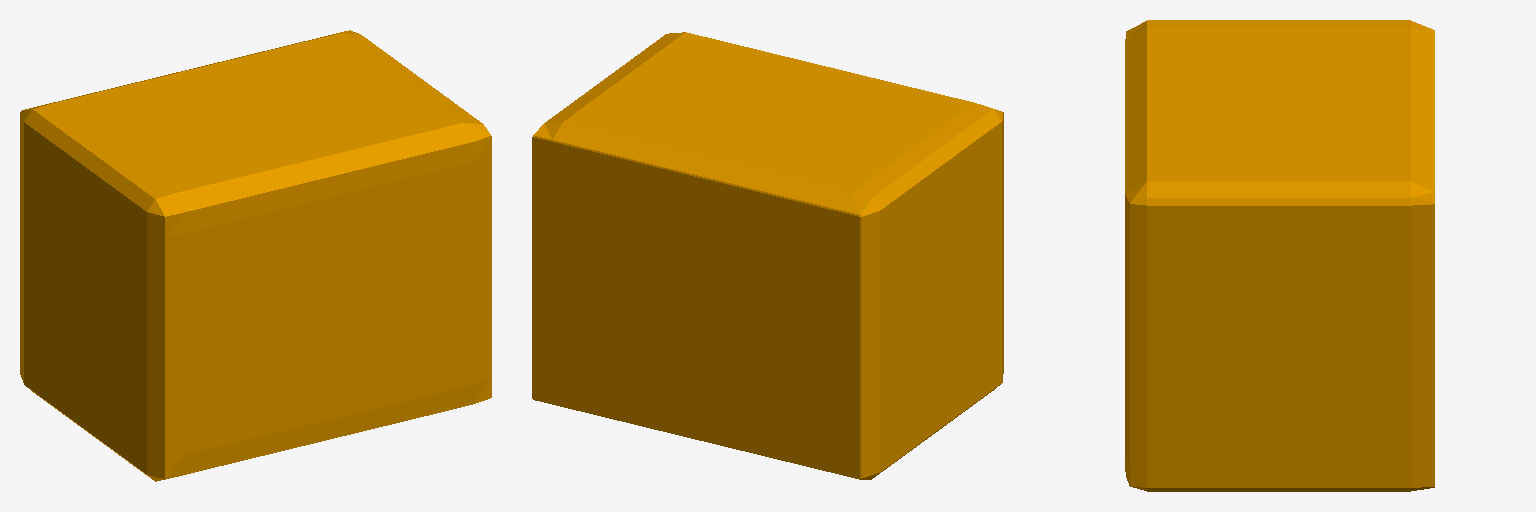
The robot description file, URDF, robot "cylinder_box_135":
<?xml version="1.0" encoding="utf-8"?>  <robot name="cylinder_box_135">   <link name="cylinder_box_135">     <visual>       <geometry>         <mesh filename="../meshes/box/box_135.stl" scale="1 1 1"/>       </geometry>     </visual>     <collision>       <geometry>         <mesh filename="../meshes/box/box_135.stl" scale="1 1 1"/>       </geometry>     </collision>     <inertial>        <origin         xyz="0 0 0"         rpy="0 0 0" />       <mass value="0.39725958332289163"/>       <origin rpy="0 0 0" xyz="0 0 0"/>       <inertia ixx="0.0002985158647589373" ixy="-2.0509460260026717e-07" ixz="-3.2511730687578333e-08" iyy="0.00041535576050849625" iyz="2.4746185484266525e-08" izz="0.00039124948490441684"/>     </inertial>   </link>  </robot>

--- Facts derived from the render (not from the file) ---
3 views of the same robot in one strip: view 1: azimuth 30°, elevation 25°; view 2: azimuth 150°, elevation 25°; view 3: azimuth 270°, elevation 25° (orthographic).
Model cylinder_box_135 with 1 links and 0 joints (none), rooted at cylinder_box_135, posed all joints at 0.
Links seen in each view (by area): view 1: cylinder_box_135; view 2: cylinder_box_135; view 3: cylinder_box_135.
Link boxes in pixels (x1=…): cylinder_box_135: x1=20, y1=30, x2=491, y2=481; cylinder_box_135: x1=532, y1=32, x2=1003, y2=479; cylinder_box_135: x1=1125, y1=20, x2=1434, y2=491.
Size in the robot's own frame: 0.0881 by 0.0649 by 0.0704 metres.
1 mesh visuals loaded from 1 distinct referenced files (1 binary STL).